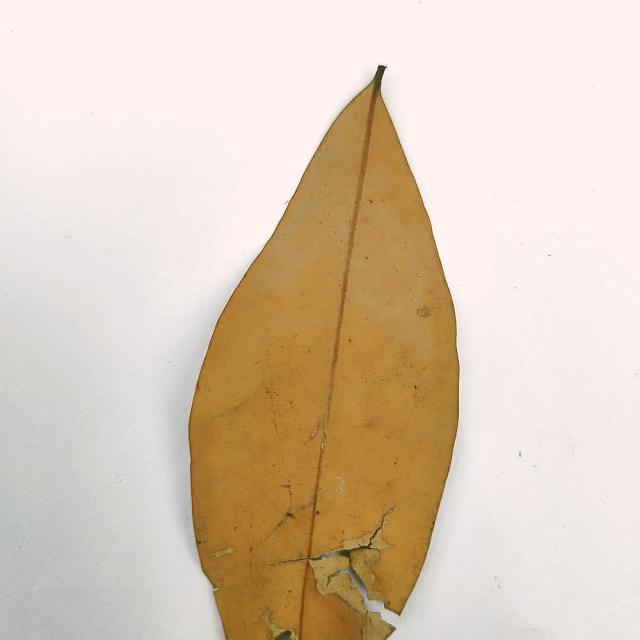Dry_Leaf-Lychee: (188, 69, 461, 639)
